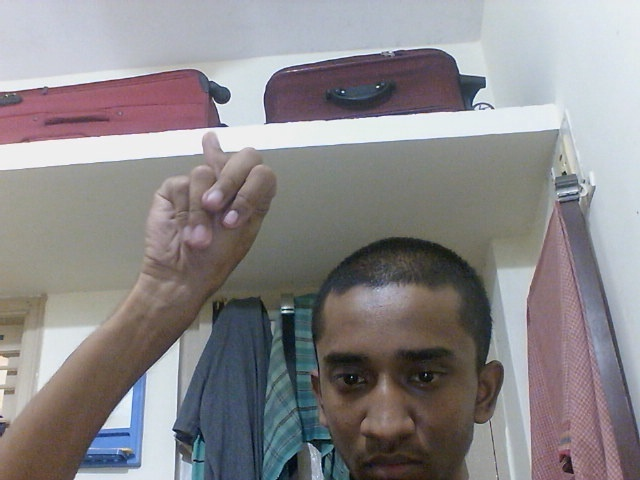hand: (137, 126, 280, 305)
